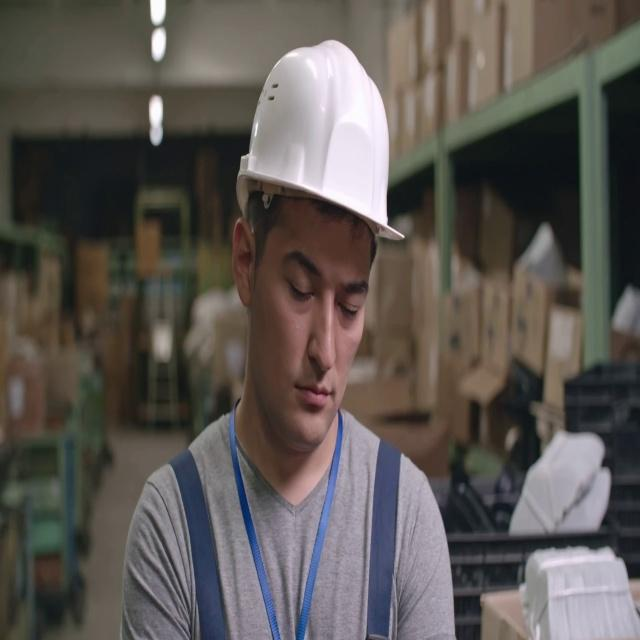helmet: (233, 49, 407, 604)
